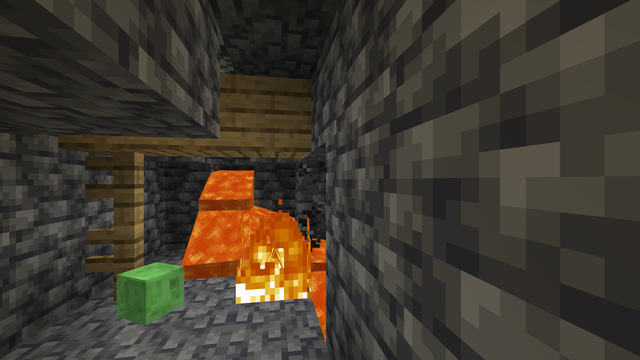slimes: (115, 261, 181, 324)
